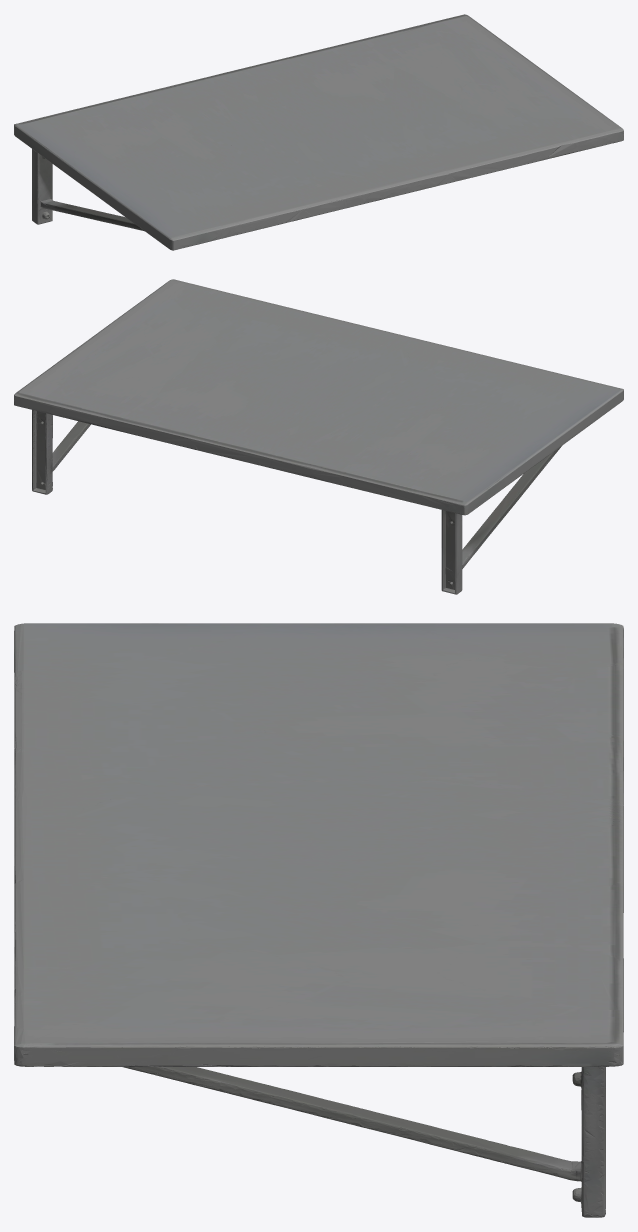
The model's file is bracket-shelf.glb.
3 views of the same model, one above another, from view 1: azimuth 30°, elevation 25°; view 2: azimuth 150°, elevation 25°; view 3: azimuth 270°, elevation 25° (orthographic). The views are drawn at different scales.
Parts seen in each view (by area): view 1: material; view 2: material; view 3: material.
Boxes of the visible parts, x1=… form: material: x1=14, y1=14, x2=623, y2=250; material: x1=14, y1=279, x2=623, y2=594; material: x1=14, y1=623, x2=623, y2=1217.
Bounding box in the file's own units: 1.15 × 0.236 × 0.6995.
Materials: 1 (1 with a texture image).
